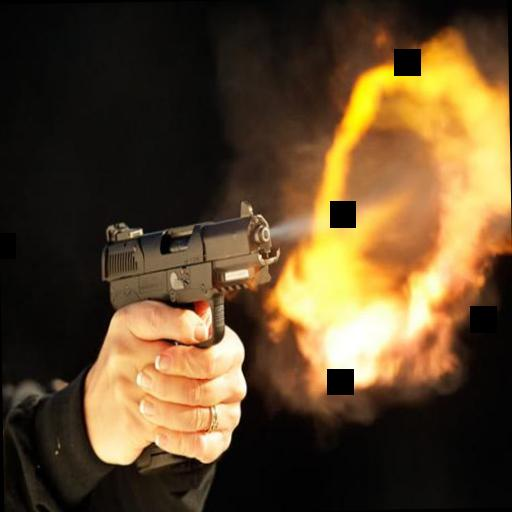Handgun: (98, 198, 281, 476)
